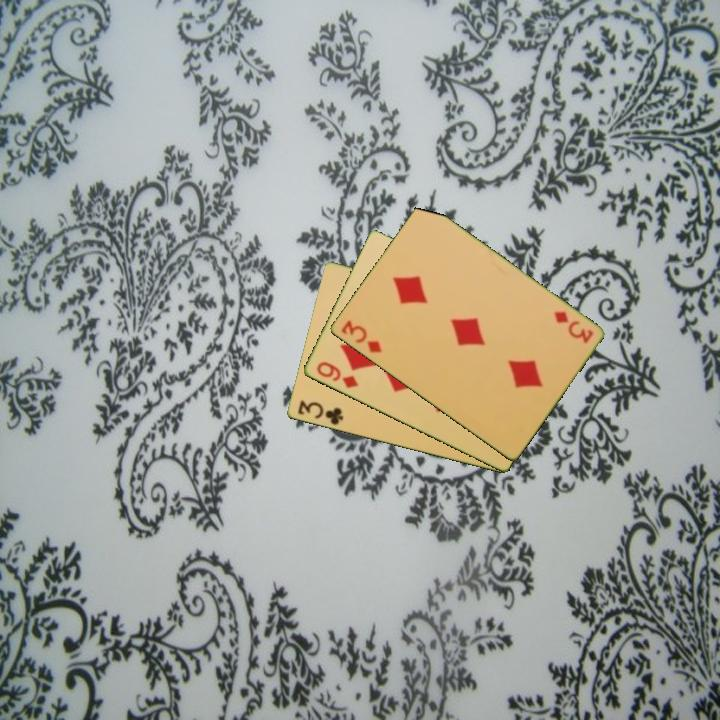3c: (294, 396, 346, 428)
3d: (337, 316, 385, 356), (550, 308, 596, 346)
9d: (313, 358, 361, 391)
